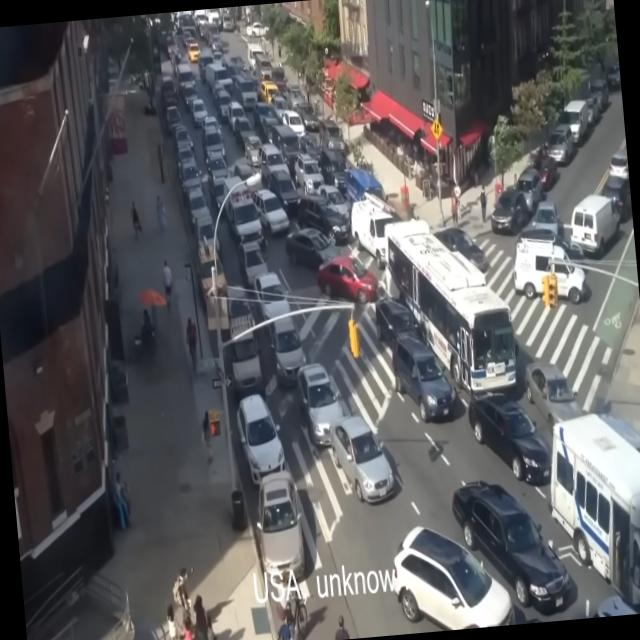ambulance: (224, 182, 258, 234)
